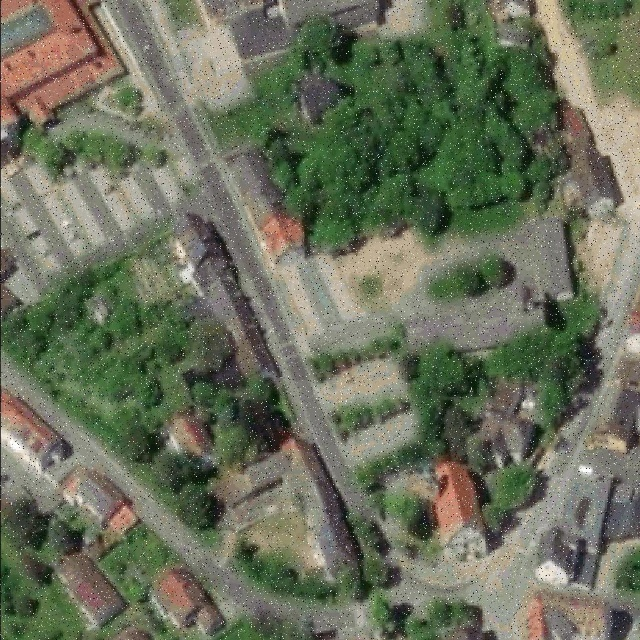vegetation: (227, 0, 551, 250), (1, 262, 285, 536), (311, 298, 602, 533), (236, 516, 472, 635), (2, 503, 83, 629), (20, 127, 141, 179), (484, 462, 536, 534), (611, 550, 637, 593)
